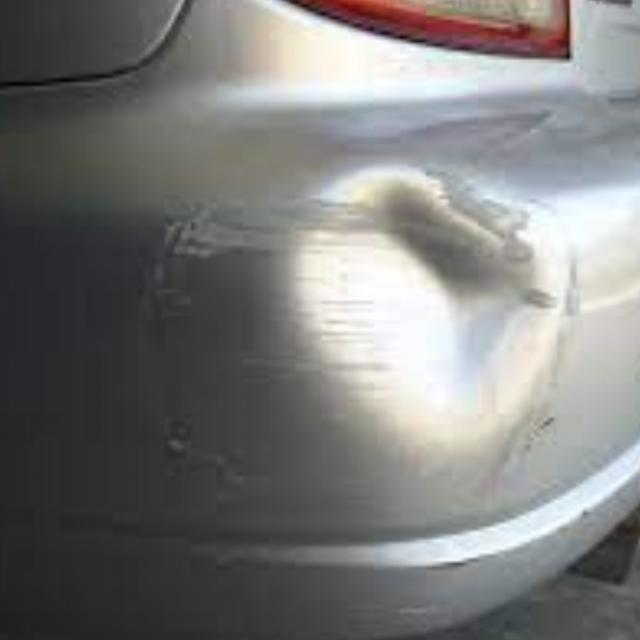dents: (311, 159, 573, 454)
